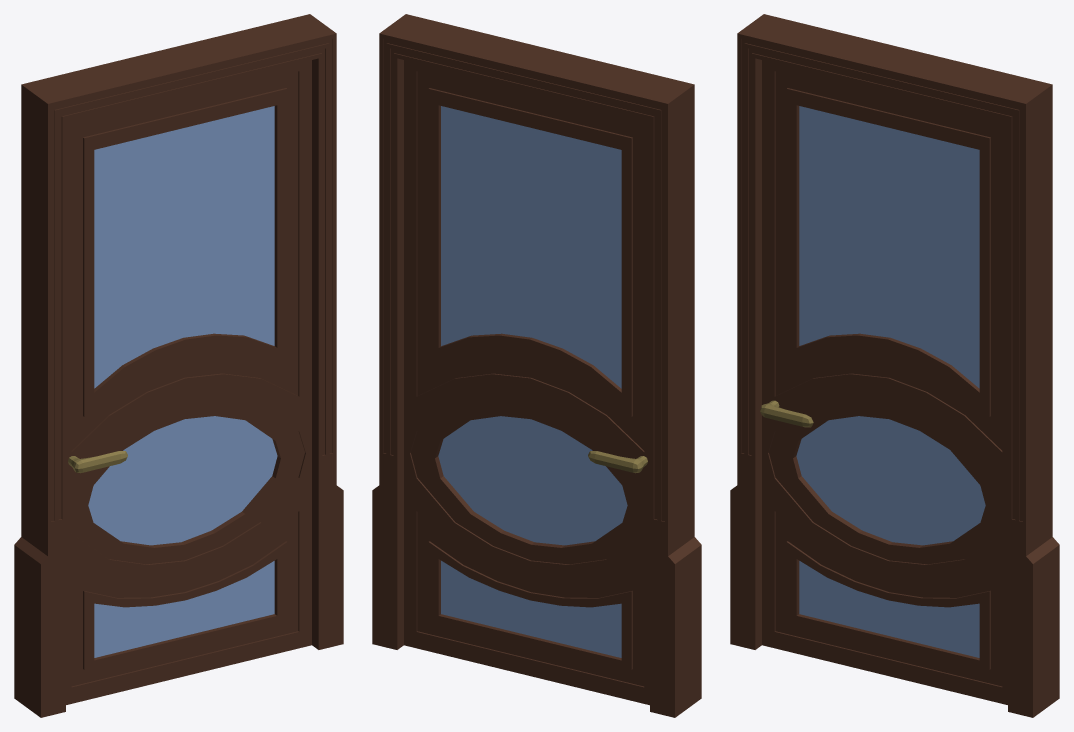
The model's file is banner.glb.
The picture shows the model from 3 angles, left to right: view 1: azimuth 30°, elevation 25°; view 2: azimuth 150°, elevation 25°; view 3: azimuth 330°, elevation 25°; orthographic projection.
Parts seen in each view (by area): view 1: Door_Cube, DoorFrame_Cube.004, DoorHandle_Cube.003; view 2: Door_Cube, DoorFrame_Cube.004, DoorHandle_Cube.003; view 3: Door_Cube, DoorFrame_Cube.004, DoorHandle_Cube.003.
Part boxes in pixels (x1=…): Door_Cube: x1=66, y1=60, x2=311, y2=704; DoorFrame_Cube.004: x1=14, y1=14, x2=343, y2=717; DoorHandle_Cube.003: x1=68, y1=451, x2=127, y2=473; Door_Cube: x1=404, y1=60, x2=649, y2=705; DoorFrame_Cube.004: x1=372, y1=14, x2=701, y2=717; DoorHandle_Cube.003: x1=588, y1=451, x2=647, y2=473; Door_Cube: x1=762, y1=60, x2=1007, y2=704; DoorFrame_Cube.004: x1=730, y1=14, x2=1059, y2=717; DoorHandle_Cube.003: x1=760, y1=400, x2=813, y2=427.
Size of the model in its own units: 1.59 by 3.08 by 0.3199.
